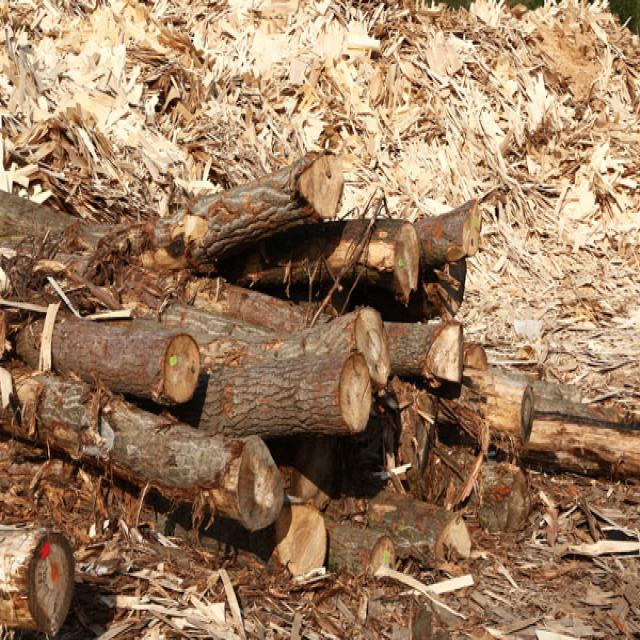green waste: (1, 3, 637, 639)
